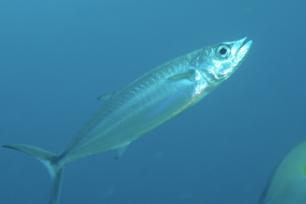Acanthuridae -Surgeonfishes-: (225, 132, 306, 204)
Scombridae -Tunas-: (0, 33, 252, 204)
